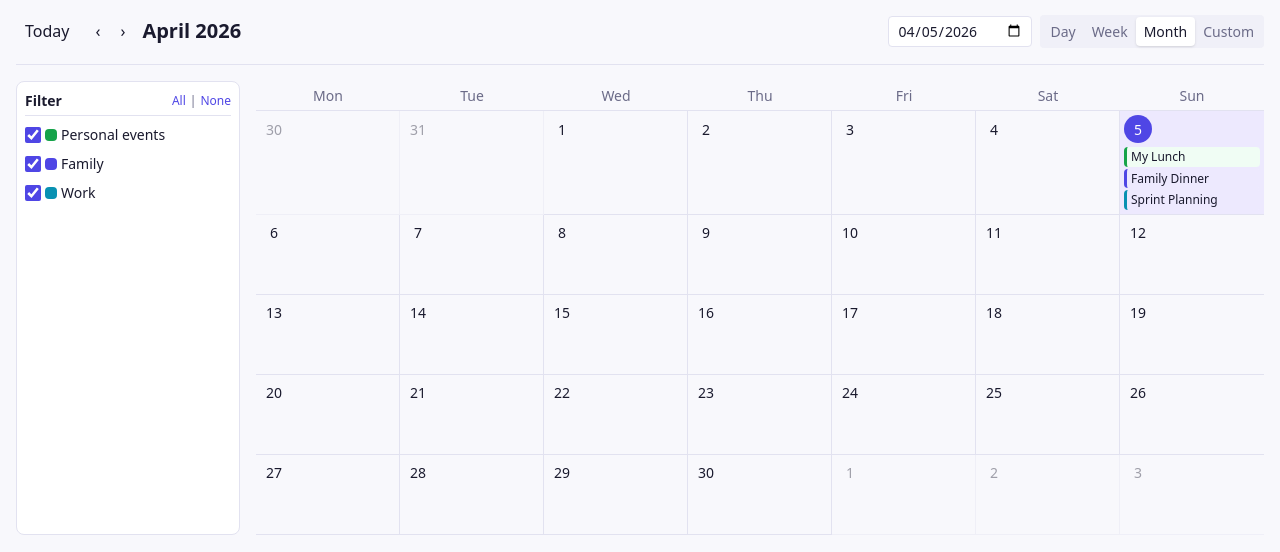
Test: Calendar group filtering integration › toggling a group off removes its events from the calendar
The width and height of the screenshot is (1280, 552).
Expected: the text "Sprint Planning" is shown, [1131,191,1218,208]
Click the checkbox labelled "Work" at (33, 192), box [25,184,41,200]
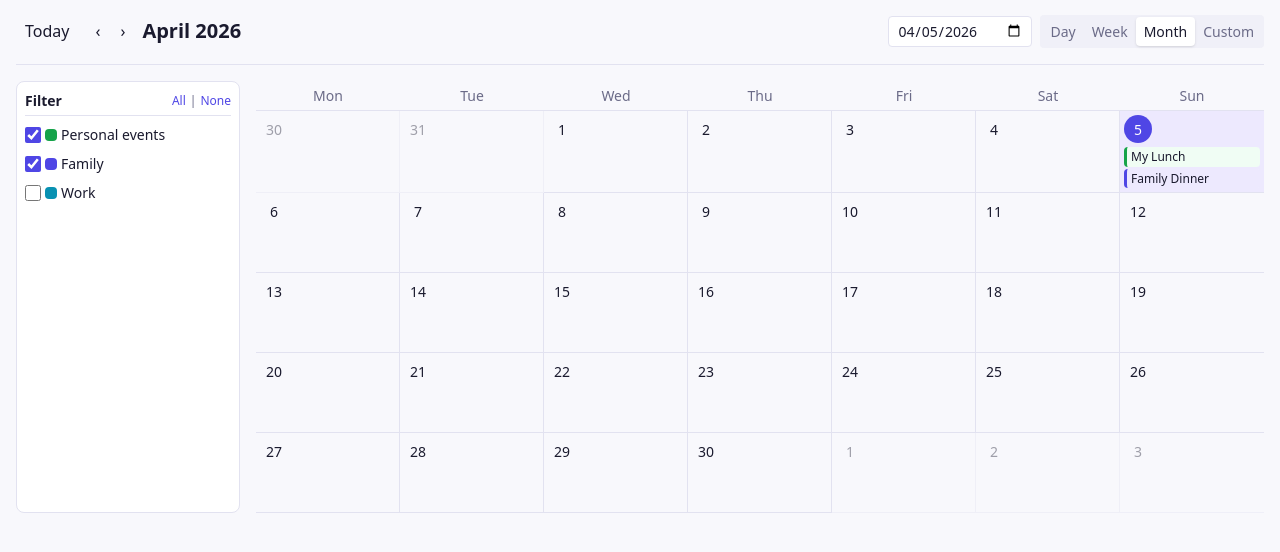
Expected: the text "Family Dinner" is shown, [1131,170,1209,187]
Expected: the button "Sprint Planning" is gone
